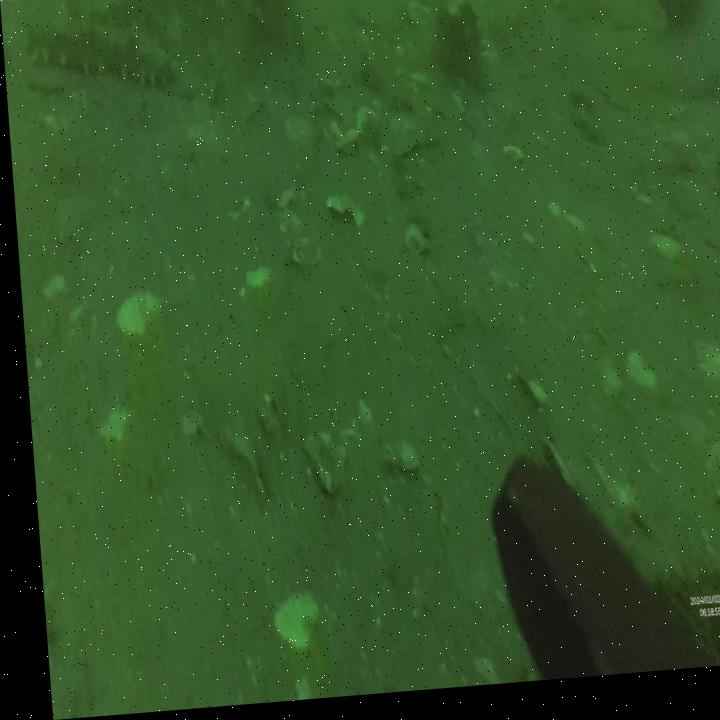echinus: (652, 0, 708, 45)
holothurian: (23, 13, 180, 99)
